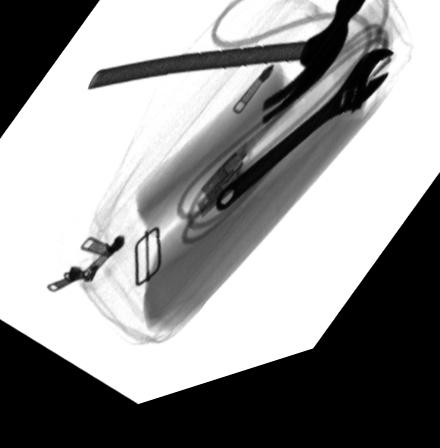Hammer: (85, 4, 371, 146)
Wrench: (216, 68, 394, 224)
